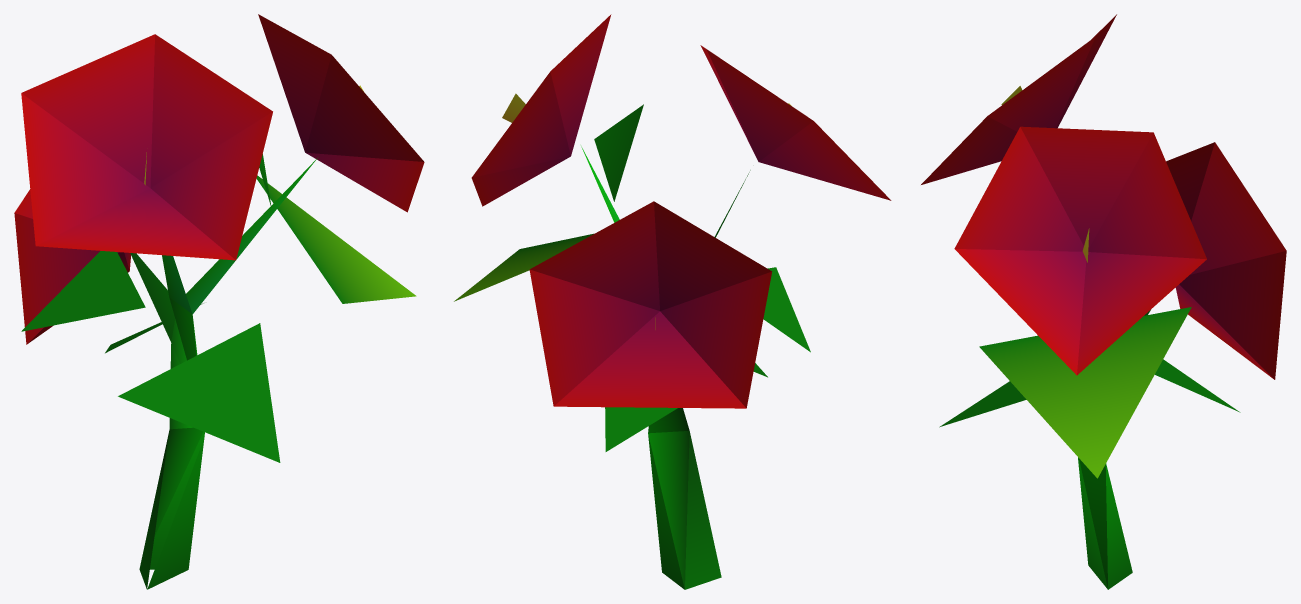
Rendered from flowerredl.dae.
3 views of the same model, side by side, from view 1: azimuth 30°, elevation 25°; view 2: azimuth 150°, elevation 25°; view 3: azimuth 270°, elevation 25° (orthographic). The views are drawn at different scales.
Visible parts, largest first — view 1: m0; view 2: m0; view 3: m0.
Boxes of the visible parts, box(x1,y1,x2,y2) form: m0: box(14, 14, 424, 589); m0: box(454, 14, 891, 589); m0: box(921, 14, 1286, 589).
Size of the model in its own units: 66.23 by 83.09 by 51.61.
